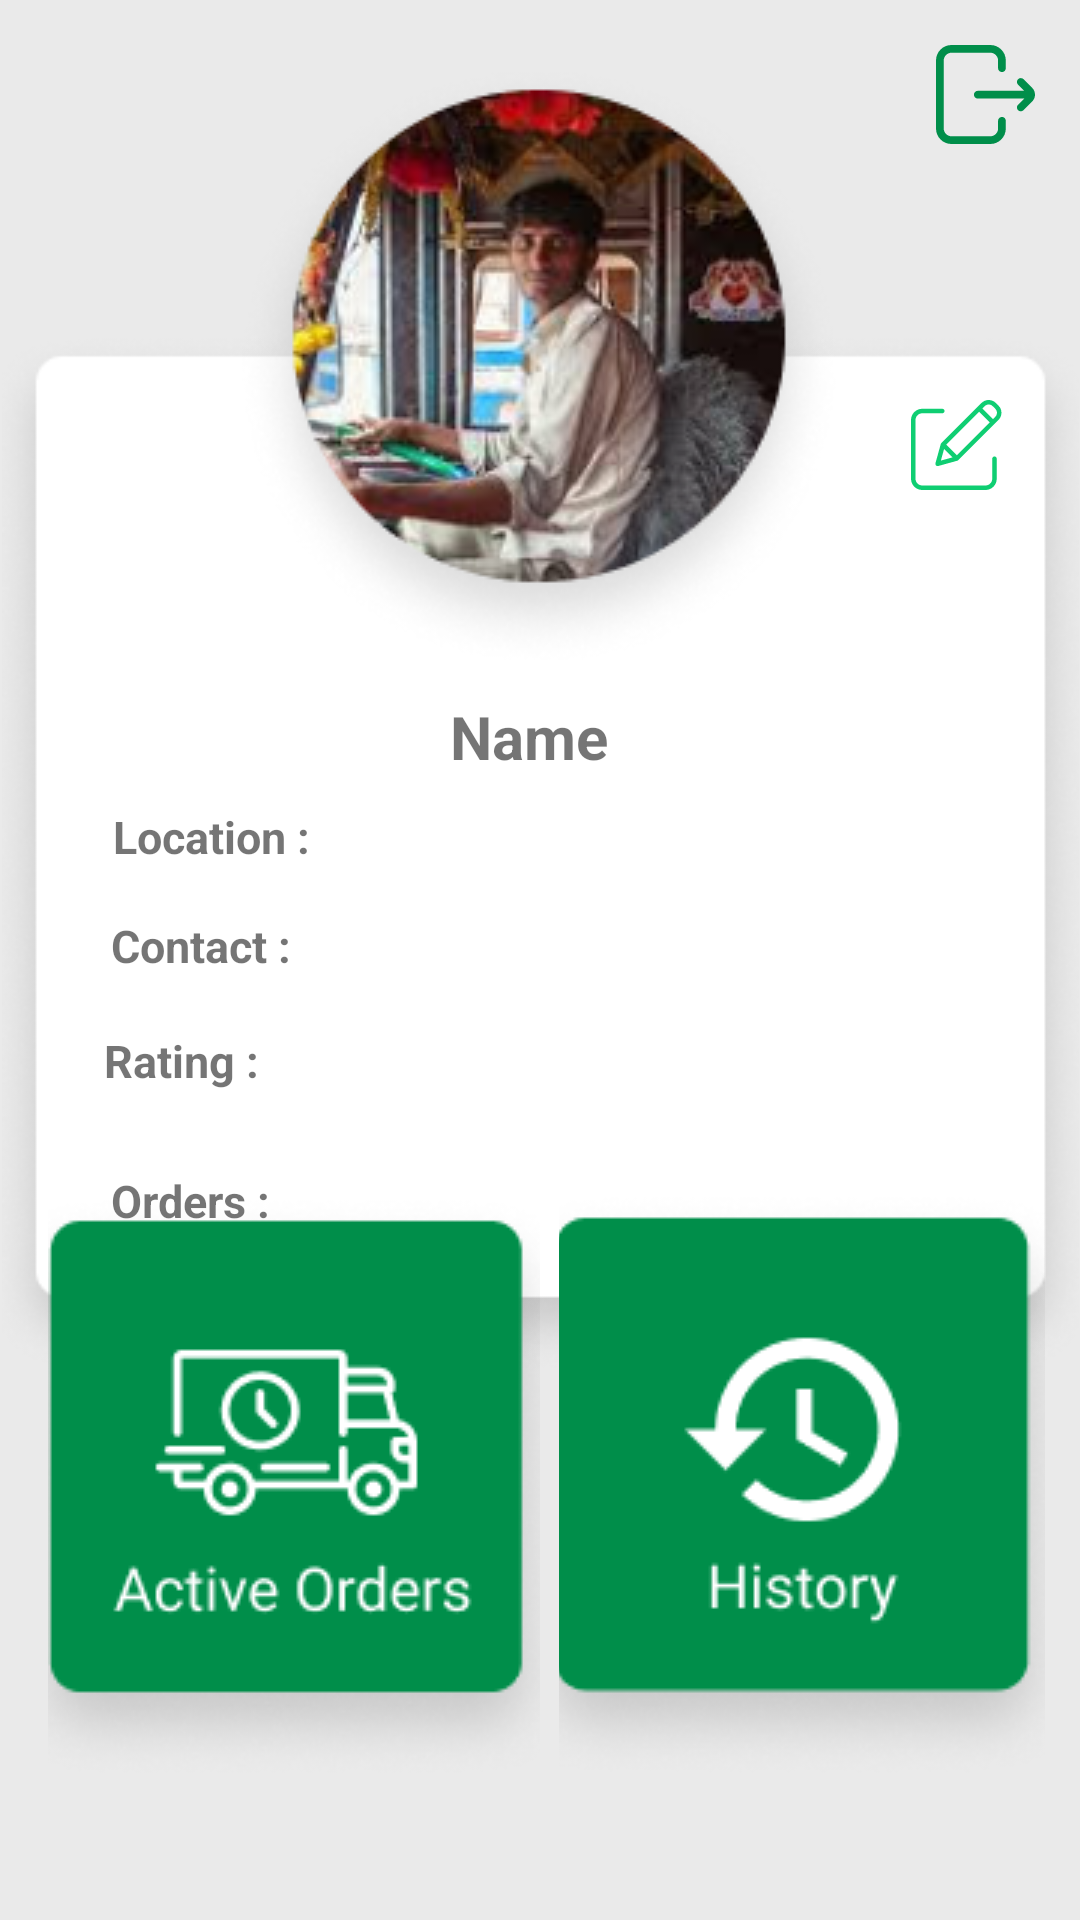

Icon bounding boxes for this 1080*1920 phone screenshot, format [x1,y1,x2,y2]:
edit: [911,400,1002,490]
exit: [936,45,1035,144]
